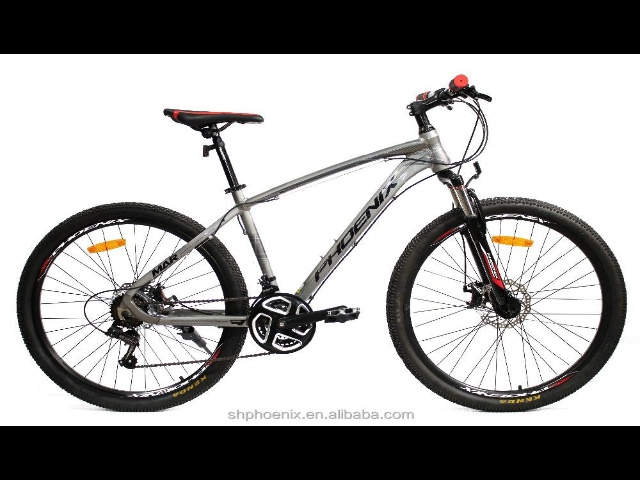bike: (14, 71, 630, 439)
